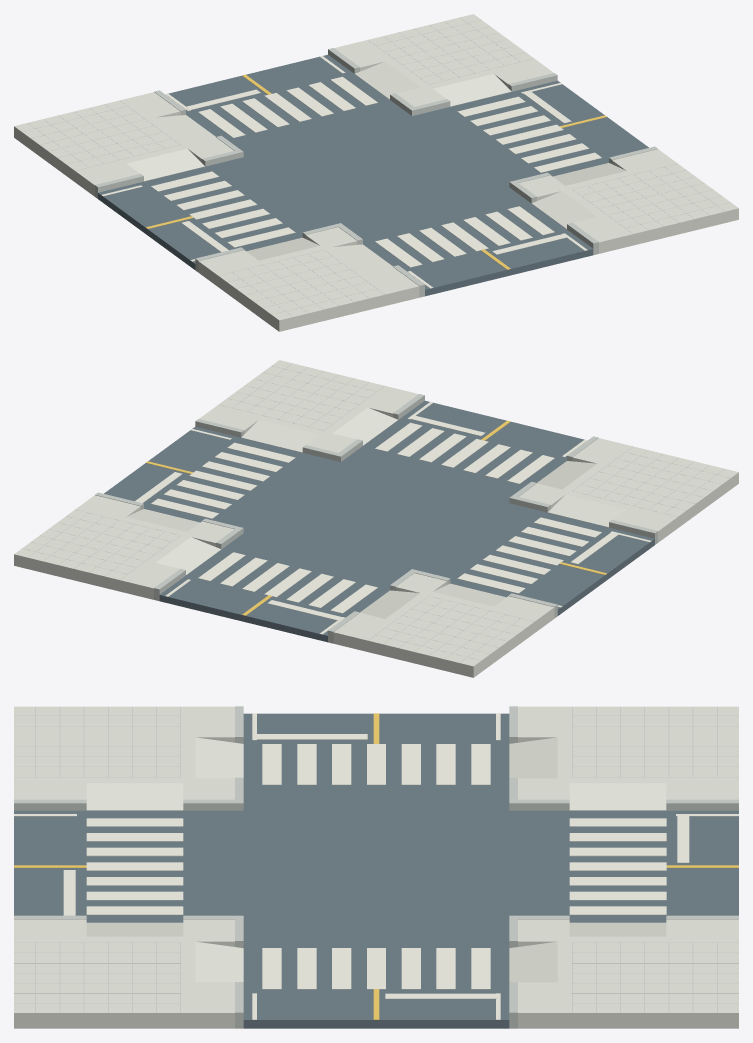
The model's file is SIMUS_Road_Crossroad_15m.fbx.
The picture shows the model from 3 angles, top to bottom: view 1: azimuth 30°, elevation 25°; view 2: azimuth 150°, elevation 25°; view 3: azimuth 270°, elevation 25°; orthographic projection. The views are drawn at different scales.
Visible parts, largest first — view 1: Road, Corner, Crosswalk, Paving joint, Stop line, White approach, Yellow approach; view 2: Road, Corner, Crosswalk, Paving joint, Stop line, White approach, Yellow approach; view 3: Road, Corner, Crosswalk, Paving joint, Stop line, White approach, Yellow approach.
Boxes of the visible parts, x1,y1,x2,y2 form: Road: (98, 54, 648, 296); Corner: (14, 14, 738, 331); Crosswalk: (151, 76, 601, 267); Paving joint: (22, 17, 730, 316); Stop line: (181, 89, 571, 254); White approach: (101, 56, 587, 288); Yellow approach: (146, 74, 606, 269); Road: (104, 400, 654, 642); Corner: (14, 360, 738, 677); Crosswalk: (151, 422, 601, 613); Paving joint: (22, 363, 730, 662); Stop line: (135, 415, 618, 620); White approach: (165, 402, 651, 634); Yellow approach: (146, 420, 606, 615); Road: (14, 713, 738, 1028); Corner: (14, 706, 738, 1028); Crosswalk: (86, 744, 666, 989); Paving joint: (14, 706, 738, 1012); Stop line: (63, 734, 689, 998); White approach: (14, 713, 738, 1019); Yellow approach: (14, 713, 738, 1019).
Size of the model in its own units: 1500 by 37 by 1500.
